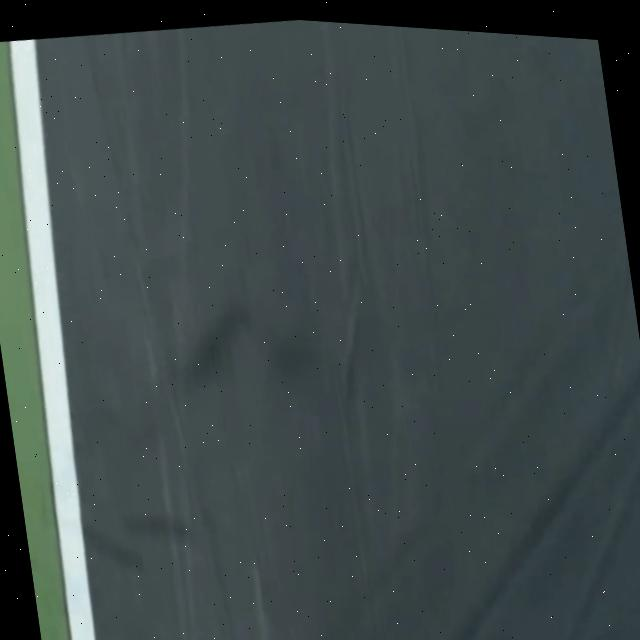right: (10, 39, 97, 640)
